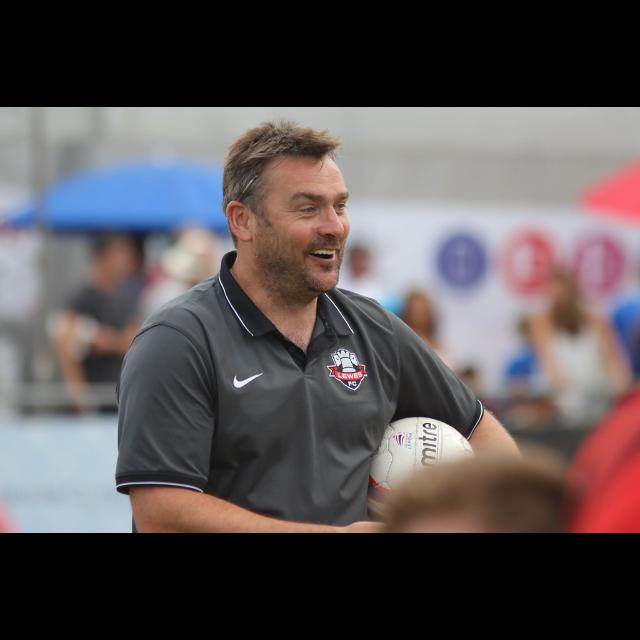Football: (368, 416, 474, 522)
